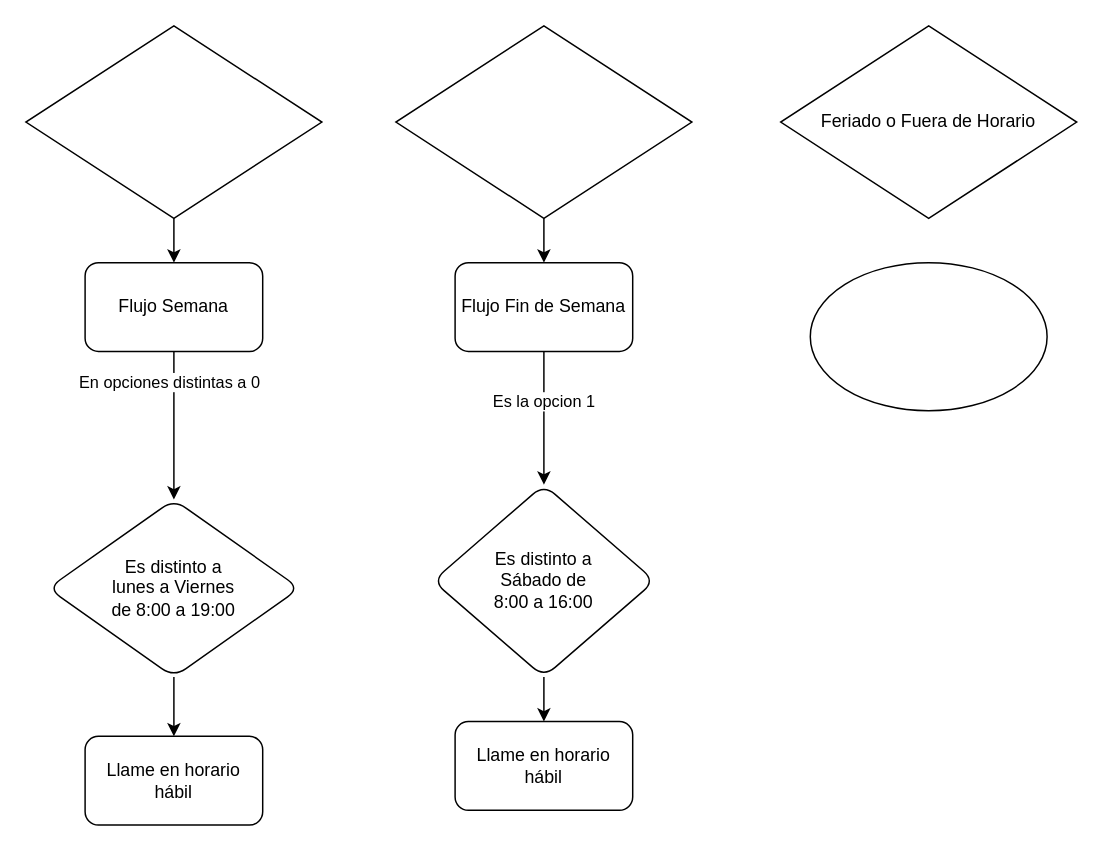
The diagram is 1103 pixels wide and 851 high, and some of its shapes have lost their labels. The centre of each missing label's shape, as x and y in pixels:
Lunes a Viernes de 8:00 a 21:30 hrs?: (x=173, y=121)
Mensaje Fuera de HH: (x=928, y=336)
Sabado o Domingo de 8:00 a 21:30 hrs?: (x=543, y=121)
